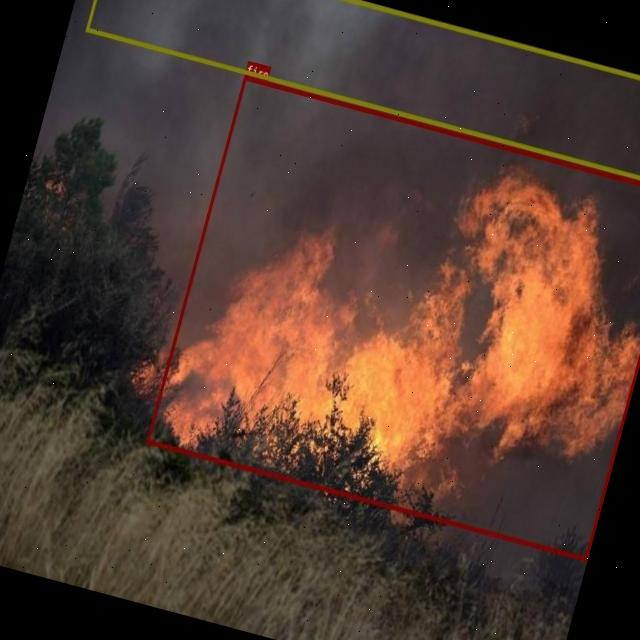fire: (145, 75, 640, 560)
smoke: (85, 0, 640, 190)
